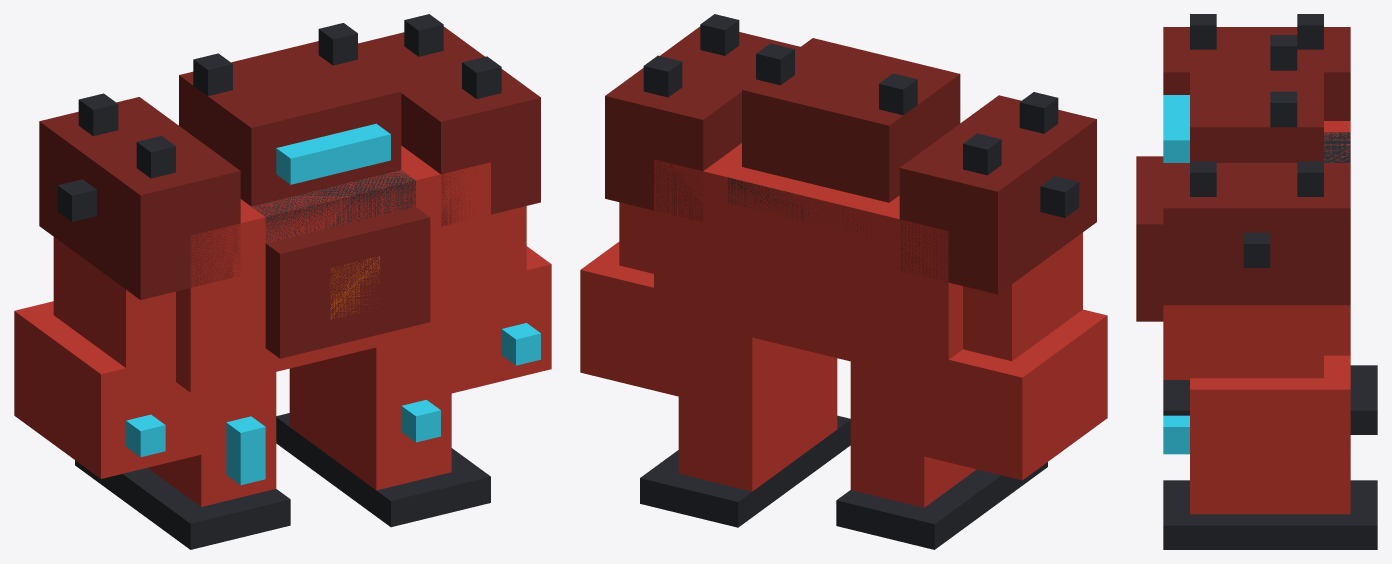
The model's file is mech_boss_walk_b.glb.
3 renders of one model, left to right at view 1: azimuth 30°, elevation 25°; view 2: azimuth 150°, elevation 25°; view 3: azimuth 270°, elevation 25°, orthographic. The views are drawn at different scales.
Visible parts, largest first — view 1: Torso mesh, Pauldron L mesh, Head mesh, Fist L mesh, Leg R mesh, Chest mesh, Pauldron R mesh, Feet mesh, Arm L mesh, Leg L mesh, Fist R mesh, Spike mesh (+5 smaller); view 2: Torso mesh, Pauldron L mesh, Head mesh, Fist L mesh, Leg R mesh, Pauldron R mesh, Feet mesh, Fist R mesh, Leg L mesh, Arm L mesh, Spike mesh, Horn mesh (+2 smaller); view 3: Pauldron R mesh, Fist R mesh, Head mesh, Feet mesh, Arm R mesh, Pauldron L mesh, Spike mesh, Leg R mesh, Chest mesh, Torso mesh, Horn mesh, Visor mesh (+1 smaller).
Part boxes in pixels (left/top/right/bottom): Torso mesh: left=176, top=145, right=490, bottom=392; Pauldron L mesh: left=39, top=97, right=240, bottom=299; Head mesh: left=179, top=41, right=401, bottom=206; Fist L mesh: left=14, top=301, right=201, bottom=478; Leg R mesh: left=289, top=329, right=451, bottom=490; Chest mesh: left=265, top=207, right=430, bottom=358; Pauldron R mesh: left=358, top=26, right=540, bottom=226; Feet mesh: left=75, top=413, right=490, bottom=549; Arm L mesh: left=53, top=237, right=175, bottom=394; Leg L mesh: left=148, top=372, right=276, bottom=506; Fist R mesh: left=451, top=246, right=551, bottom=393; Spike mesh: left=57, top=14, right=501, bottom=221; Torso mesh: left=654, top=143, right=962, bottom=385; Pauldron L mesh: left=899, top=95, right=1096, bottom=294; Head mesh: left=742, top=38, right=960, bottom=202; Fist L mesh: left=924, top=309, right=1107, bottom=480; Leg R mesh: left=678, top=319, right=837, bottom=491; Pauldron R mesh: left=605, top=26, right=800, bottom=222; Feet mesh: left=640, top=415, right=1047, bottom=549; Fist R mesh: left=580, top=242, right=678, bottom=396; Leg L mesh: left=850, top=361, right=976, bottom=507; Arm L mesh: left=963, top=232, right=1082, bottom=361; Spike mesh: left=643, top=14, right=1079, bottom=217; Horn mesh: left=756, top=43, right=917, bottom=115; Pauldron R mesh: left=1163, top=163, right=1350, bottom=305; Fist R mesh: left=1163, top=355, right=1350, bottom=486; Head mesh: left=1190, top=59, right=1323, bottom=162; Feet mesh: left=1163, top=365, right=1377, bottom=549; Arm R mesh: left=1190, top=305, right=1323, bottom=378; Pauldron L mesh: left=1163, top=27, right=1350, bottom=120; Spike mesh: left=1190, top=14, right=1323, bottom=267; Leg R mesh: left=1163, top=451, right=1350, bottom=514; Chest mesh: left=1136, top=156, right=1163, bottom=321; Torso mesh: left=1163, top=121, right=1350, bottom=379; Horn mesh: left=1270, top=35, right=1297, bottom=127; Visor mesh: left=1163, top=95, right=1189, bottom=162.
Size of the model in its own units: 18 by 17 by 9.
1 material, 1 textured.
